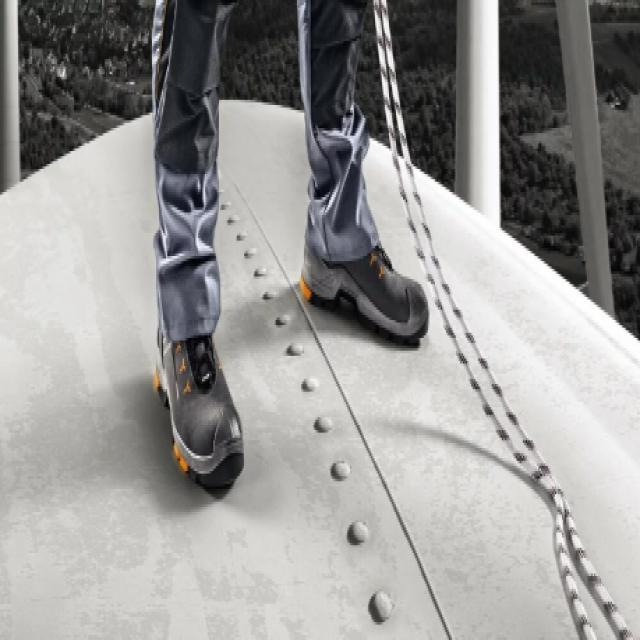boots: (301, 232, 428, 342), (159, 328, 244, 487)
